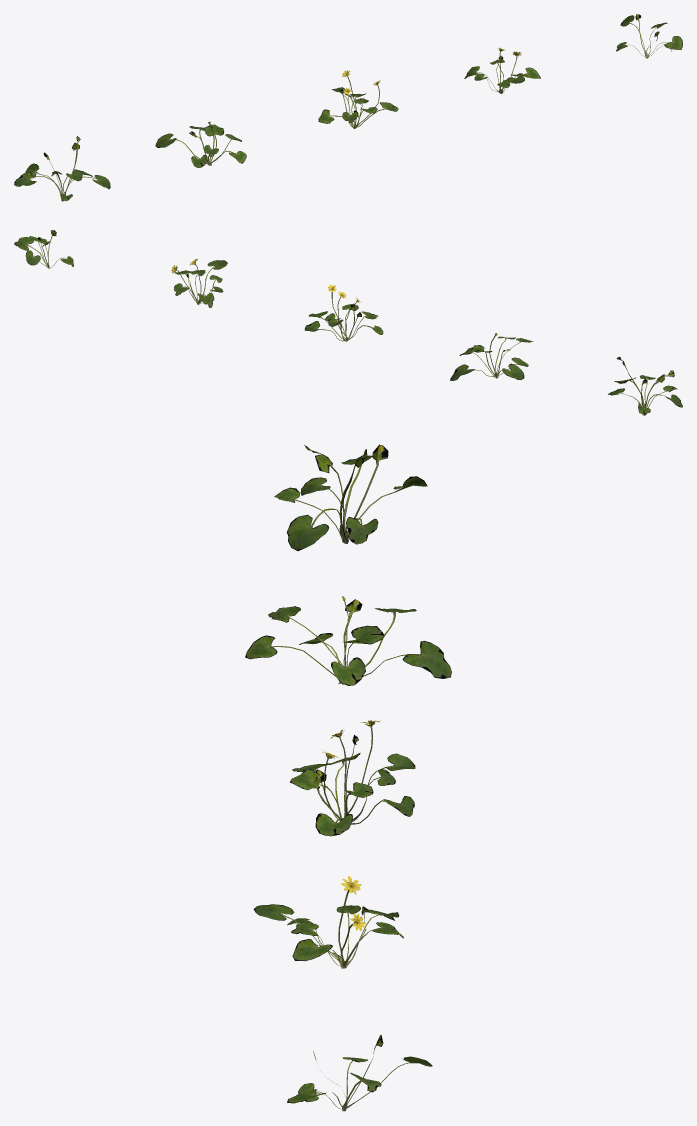
The model's file is celandine_01.glb.
3 views of the same model, one above another, from view 1: azimuth 30°, elevation 25°; view 2: azimuth 150°, elevation 25°; view 3: azimuth 270°, elevation 25° (orthographic). The views are drawn at different scales.
Visible parts, largest first — view 1: celandine_01_a_LOD0; view 2: celandine_01_a_LOD0; view 3: celandine_01_a_LOD0.
Part boxes in pixels (box(x1,y1,x2,y2)): celandine_01_a_LOD0: box(14, 14, 682, 201); celandine_01_a_LOD0: box(14, 230, 682, 415); celandine_01_a_LOD0: box(245, 444, 451, 1111).
Bounding box in the file's own units: 2.24 × 0.1859 × 0.3067.
1 material, 1 textured.
